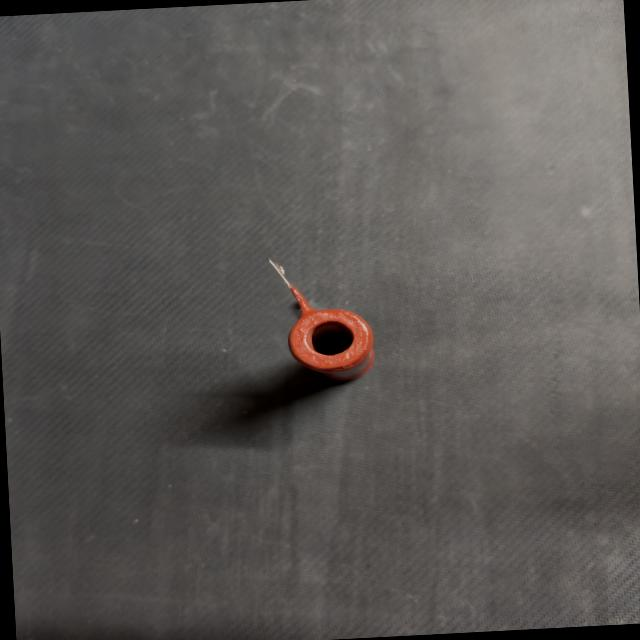resistor: (236, 244, 400, 394)
